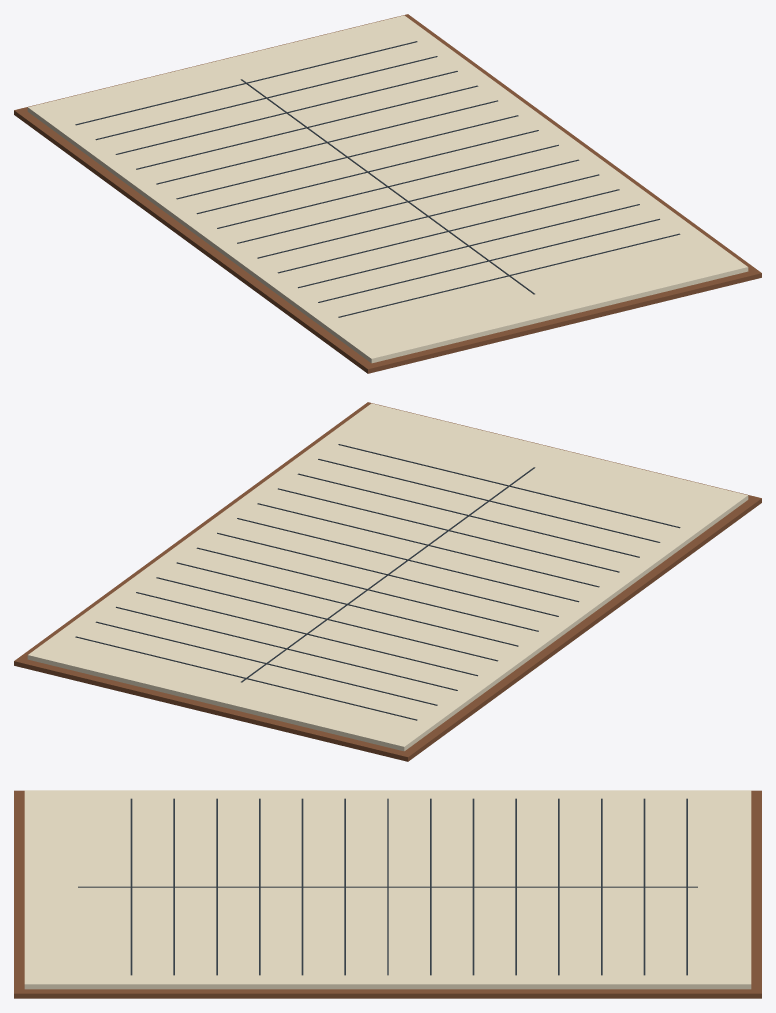
The model's file is classic-chess-essentials-score-pad-0e254211__19485.glb.
3 renders of one model, top to bottom at view 1: azimuth 30°, elevation 25°; view 2: azimuth 150°, elevation 25°; view 3: azimuth 270°, elevation 25°, orthographic. The views are drawn at different scales.
Parts seen in each view (by area): view 1: score-pad; view 2: score-pad; view 3: score-pad.
Boxes of the visible parts, x1=… form: score-pad: x1=14, y1=14, x2=761, y2=373; score-pad: x1=14, y1=402, x2=761, y2=761; score-pad: x1=14, y1=790, x2=761, y2=998.
Bounding box in the file's own units: 0.09 × 0.00211 × 0.14.
